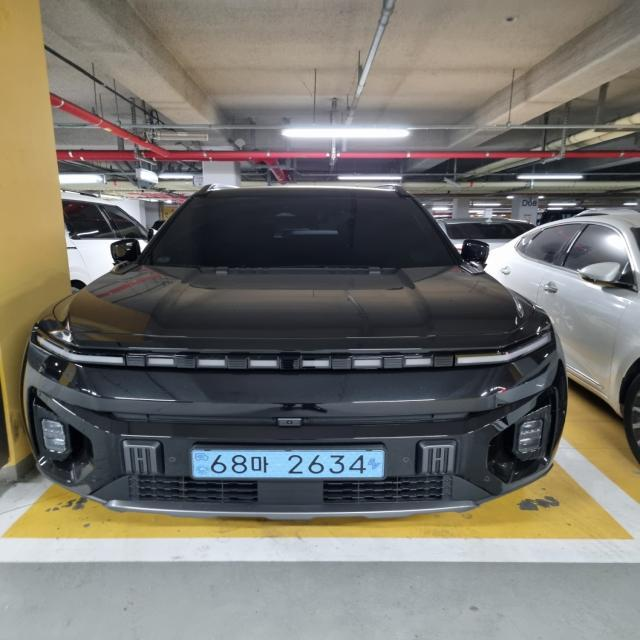car: (156, 435, 429, 493)
carev: (367, 445, 394, 484), (190, 447, 213, 482)
